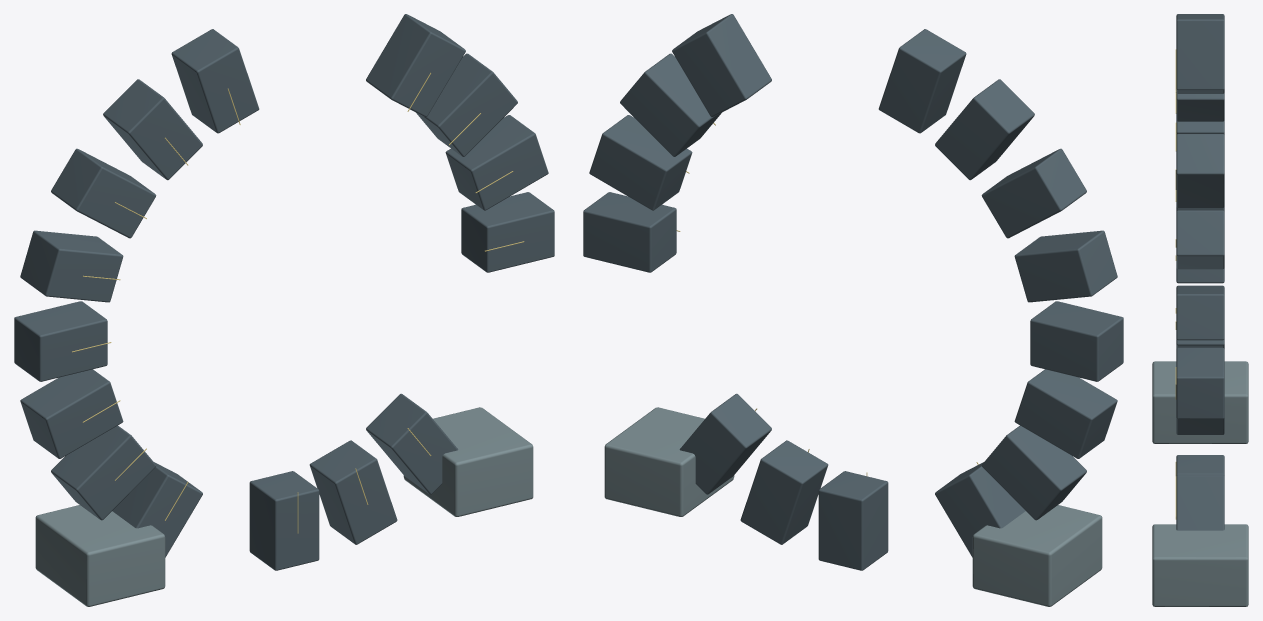
The model's file is observatory.glb.
3 renders of one model, left to right at view 1: azimuth 30°, elevation 25°; view 2: azimuth 150°, elevation 25°; view 3: azimuth 270°, elevation 25°, orthographic. The views are drawn at different scales.
Parts seen in each view (by area): view 1: Arch footing, Arch footing.001, Ancient arch segment.012, Ancient arch segment.008, Ancient arch segment.009, Ancient arch segment, Ancient arch segment.003, Ancient arch segment.004, Ancient arch segment.013, Ancient arch segment.007, Ancient arch segment.001, Ancient arch segment.010 (+5 smaller); view 2: Arch footing, Arch footing.001, Ancient arch segment.012, Ancient arch segment.008, Ancient arch segment.009, Ancient arch segment, Ancient arch segment.003, Ancient arch segment.004, Ancient arch segment.013, Ancient arch segment.007, Ancient arch segment.001, Ancient arch segment.010 (+5 smaller); view 3: Arch footing.001, Arch footing, Ancient arch segment.004, Ancient arch segment.003, Ancient arch segment, Ancient arch segment.002, Ancient arch segment.014, Ancient arch segment.001, Ancient arch segment.006, Ancient arch segment.012, Ancient arch segment.011, Ancient arch segment.009 (+3 smaller).
Part boxes in pixels (bbox=[...]): Arch footing: bbox=[35, 505, 165, 606]; Arch footing.001: bbox=[403, 407, 533, 516]; Ancient arch segment.012: bbox=[249, 471, 319, 570]; Ancient arch segment.008: bbox=[14, 301, 107, 381]; Ancient arch segment.009: bbox=[20, 369, 123, 458]; Ancient arch segment: bbox=[461, 192, 554, 272]; Ancient arch segment.003: bbox=[366, 14, 465, 117]; Ancient arch segment.004: bbox=[171, 29, 259, 133]; Ancient arch segment.013: bbox=[309, 440, 397, 544]; Ancient arch segment.007: bbox=[20, 230, 123, 302]; Ancient arch segment.001: bbox=[445, 115, 548, 210]; Ancient arch segment.010: bbox=[51, 425, 155, 520]; Arch footing: bbox=[972, 505, 1102, 606]; Arch footing.001: bbox=[604, 407, 734, 516]; Ancient arch segment.012: bbox=[818, 471, 888, 570]; Ancient arch segment.008: bbox=[1030, 301, 1123, 381]; Ancient arch segment.009: bbox=[1014, 369, 1117, 458]; Ancient arch segment: bbox=[583, 192, 676, 272]; Ancient arch segment.003: bbox=[672, 14, 771, 117]; Ancient arch segment.004: bbox=[878, 29, 966, 133]; Ancient arch segment.013: bbox=[740, 440, 828, 544]; Ancient arch segment.007: bbox=[1014, 230, 1117, 302]; Ancient arch segment.001: bbox=[589, 115, 692, 210]; Ancient arch segment.010: bbox=[982, 425, 1086, 520]; Arch footing.001: bbox=[1152, 524, 1248, 606]; Arch footing: bbox=[1152, 361, 1248, 443]; Ancient arch segment.004: bbox=[1176, 14, 1224, 90]; Ancient arch segment.003: bbox=[1176, 134, 1224, 207]; Ancient arch segment: bbox=[1176, 347, 1224, 418]; Ancient arch segment.002: bbox=[1176, 210, 1224, 269]; Ancient arch segment.014: bbox=[1176, 475, 1224, 530]; Ancient arch segment.001: bbox=[1176, 285, 1224, 340]; Ancient arch segment.006: bbox=[1176, 92, 1224, 121]; Ancient arch segment.012: bbox=[1176, 455, 1224, 476]; Ancient arch segment.011: bbox=[1176, 418, 1224, 434]; Ancient arch segment.009: bbox=[1176, 268, 1224, 283].
Size of the model in its own units: 39.2 by 38.73 by 7.
